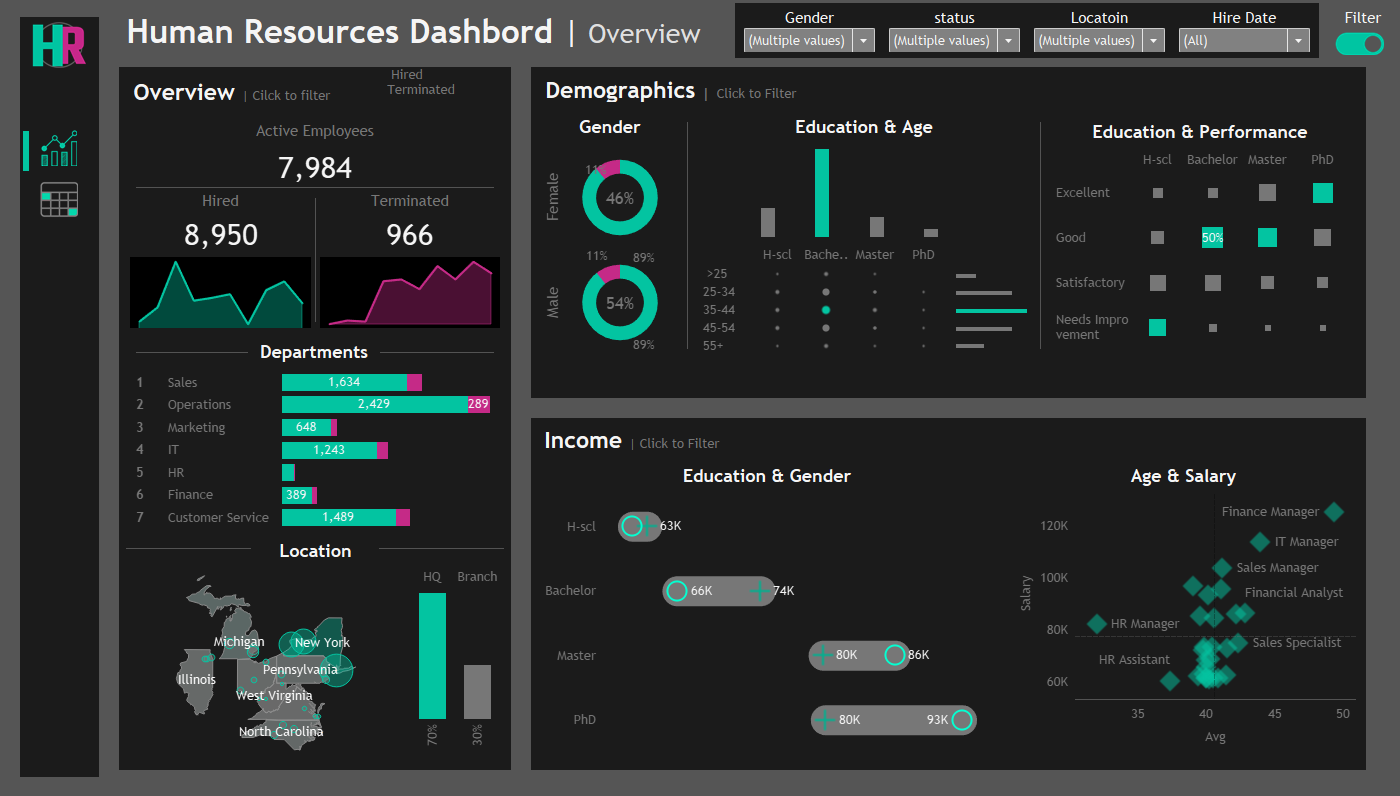

The page's visual inventory and layout, read from the dashboard file:
{"tool":"tableau","page":{"name":"HR|Summary","canvas":[1400,800],"ordinal":1},"visuals":[{"type":"text","box":[119,0,671.5,70]},{"type":"blank","box":[790.5,0,575.5,70]},{"type":"blank","box":[1368,0,32,800]},{"type":"filter","title":"Gender vs education Levels","param":"[federated.1wgo65b0wdhot611v76b300v0btf].[none:Gender:nk]","box":[737,8,145,51]},{"type":"filter","title":"Gender vs education Levels","param":"[federated.1wgo65b0wdhot611v76b300v0btf].[none:Calculation_106116066230337536:nk","box":[882,8,145,51]},{"type":"filter","title":"Gender vs education Levels","param":"[federated.1wgo65b0wdhot611v76b300v0btf].[none:Calculation_222646774879584258:nk","box":[1027,8,145,51]},{"type":"filter","title":"Gender vs education Levels","param":"[federated.1wgo65b0wdhot611v76b300v0btf].[yr:Hiredate:ok]","box":[1172,8,145,51]},{"type":"text","box":[1331,9,64,23]},{"type":"image","param":"Image/Logo.png","box":[20,20,79,55]},{"type":"dashboard-object","box":[1335,22,49,49]},{"type":"text","box":[384,70,100,32]},{"type":"text","box":[126,77,378,35]},{"type":"text","box":[538,77,821,32]},{"type":"blank","box":[30,85,59,44]},{"type":"text","box":[126,112,378,38]},{"type":"text","box":[538,115,144,29]},{"type":"blank","box":[687,115,1,247.5]},{"type":"text","box":[693,115,342,29]},{"type":"blank","box":[1040,115,1,247.5]},{"type":"text","box":[1046,120,308,29]},{"type":"dashboard-object","box":[30,129,59,44]},{"type":"blank","box":[23,134,6,40]},{"type":"worksheet","title":"Gender","mark":"Pie","rows":["Gender"],"cols":["Calculation_222646774893821956","Calculation_222646774893821956"],"box":[538,144,144,218.5]},{"type":"worksheet","title":"Education Levels","mark":"Bar","rows":["Calculation_877920520592773120"],"cols":["Education Level"],"box":[693,144,342,100]},{"type":"worksheet","title":"Education vs performance","mark":"Square","rows":["Performance Rating"],"cols":["Education Level"],"box":[1046,149,308,208.5]},{"type":"worksheet","title":"Ban Active","mark":"Automatic","box":[126,150,378,40]},{"type":"blank","box":[30,173,59,10]},{"type":"dashboard-object","box":[30,183,59,38]},{"type":"blank","box":[126,190,378,1]},{"type":"text","box":[126,191,189,26]},{"type":"blank","box":[315,191,1,144]},{"type":"text","box":[316,191,188,26]},{"type":"worksheet","title":"BAN Hired","mark":"Automatic","box":[126,217,189,39]},{"type":"worksheet","title":"BAN Terminated","mark":"Automatic","box":[316,217,188,39]},{"type":"worksheet","title":" Age vs Education","mark":"Circle","rows":["Calculation_803611126864502785"],"cols":["Education Level"],"box":[693,244,259,118.5]},{"type":"worksheet","title":"Age groups","mark":"Bar","rows":["Calculation_803611126864502785"],"cols":["Calculation_877920520592773120"],"box":[952,244,83,118.5]},{"type":"worksheet","title":"Hired by year","mark":"Automatic","rows":["Calculation_877920520592773120","Calculation_877920520592773120"],"cols":["Hiredate"],"box":[126,256,189,79]},{"type":"worksheet","title":"Terminated by year","mark":"Automatic","rows":["Calculation_877920520593264641","Calculation_877920520593264641"],"cols":["Termdate"],"box":[316,256,188,79]},{"type":"blank","box":[136,340,112,30]},{"type":"text","box":[248,340,132,30]},{"type":"blank","box":[380,340,114,30]},{"type":"blank","box":[538,362.5,821,32]},{"type":"worksheet","title":"Departments","mark":"Bar","rows":["Calculation_222646774878605313","Department"],"cols":["Calculation_877920520592773120"],"box":[126,370,378,166]},{"type":"text","box":[537,427.5,823,32]},{"type":"text","box":[537,464.5,460,29]},{"type":"text","box":[1007,464.5,353,29]},{"type":"worksheet","title":"Gender vs education Levels","mark":"Square","rows":["Education Level"],"cols":["Salary","Salary"],"box":[537,493.5,460,266]},{"type":"worksheet","title":"Age vs Salaries","mark":"Shape","rows":["Salary"],"cols":["Calculation_222646774901010437"],"box":[1007,493.5,353,266]},{"type":"blank","box":[126,536,124.7,30]},{"type":"text","box":[250.7,536,128.6,30]},{"type":"blank","box":[379.3,536,124.7,30]},{"type":"worksheet","title":"Map State","mark":"Automatic","box":[126,566,280,200]},{"type":"worksheet","title":"Location","mark":"Bar","rows":["Calculation_877920520592773120"],"cols":["Calculation_222646774879584258","Calculation1"],"box":[406,566,98,200]}]}

Visuals, with their boxes in screenshot pixels (x1, y1, x2, y2), scaled from the page's 1400x800 canvas onto the 1400x796 screenshot:
text: Rect(119, 0, 790, 70)
blank: Rect(790, 0, 1366, 70)
blank: Rect(1368, 0, 1399, 795)
"Gender vs education Levels" filter: Rect(737, 8, 882, 59)
"Gender vs education Levels" filter: Rect(882, 8, 1027, 59)
"Gender vs education Levels" filter: Rect(1027, 8, 1172, 59)
"Gender vs education Levels" filter: Rect(1172, 8, 1317, 59)
text: Rect(1331, 9, 1395, 32)
image: Rect(20, 20, 99, 75)
dashboard-object: Rect(1335, 22, 1384, 71)
text: Rect(384, 70, 484, 101)
text: Rect(126, 77, 504, 111)
text: Rect(538, 77, 1359, 108)
blank: Rect(30, 85, 89, 128)
text: Rect(126, 111, 504, 149)
text: Rect(538, 114, 682, 143)
blank: Rect(687, 114, 688, 361)
text: Rect(693, 114, 1035, 143)
blank: Rect(1040, 114, 1041, 361)
text: Rect(1046, 119, 1354, 148)
dashboard-object: Rect(30, 128, 89, 172)
blank: Rect(23, 133, 29, 173)
"Gender" worksheet (Pie marks): Rect(538, 143, 682, 361)
"Education Levels" worksheet (Bar marks): Rect(693, 143, 1035, 243)
"Education vs performance" worksheet (Square marks): Rect(1046, 148, 1354, 356)
"Ban Active" worksheet: Rect(126, 149, 504, 189)
blank: Rect(30, 172, 89, 182)
dashboard-object: Rect(30, 182, 89, 220)
blank: Rect(126, 189, 504, 190)
text: Rect(126, 190, 315, 216)
blank: Rect(315, 190, 316, 333)
text: Rect(316, 190, 504, 216)
"BAN Hired" worksheet: Rect(126, 216, 315, 255)
"BAN Terminated" worksheet: Rect(316, 216, 504, 255)
" Age vs Education" worksheet (Circle marks): Rect(693, 243, 952, 361)
"Age groups" worksheet (Bar marks): Rect(952, 243, 1035, 361)
"Hired by year" worksheet: Rect(126, 255, 315, 333)
"Terminated by year" worksheet: Rect(316, 255, 504, 333)
blank: Rect(136, 338, 248, 368)
text: Rect(248, 338, 380, 368)
blank: Rect(380, 338, 494, 368)
blank: Rect(538, 361, 1359, 393)
"Departments" worksheet (Bar marks): Rect(126, 368, 504, 533)
text: Rect(537, 425, 1360, 457)
text: Rect(537, 462, 997, 491)
text: Rect(1007, 462, 1360, 491)
"Gender vs education Levels" worksheet (Square marks): Rect(537, 491, 997, 756)
"Age vs Salaries" worksheet (Shape marks): Rect(1007, 491, 1360, 756)
blank: Rect(126, 533, 251, 563)
text: Rect(251, 533, 379, 563)
blank: Rect(379, 533, 504, 563)
"Map State" worksheet: Rect(126, 563, 406, 762)
"Location" worksheet (Bar marks): Rect(406, 563, 504, 762)
